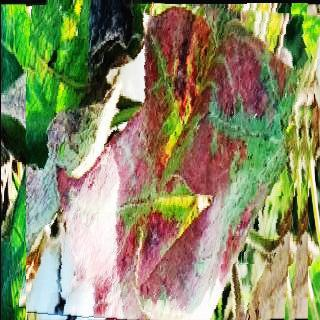blight: (25, 0, 314, 320)
